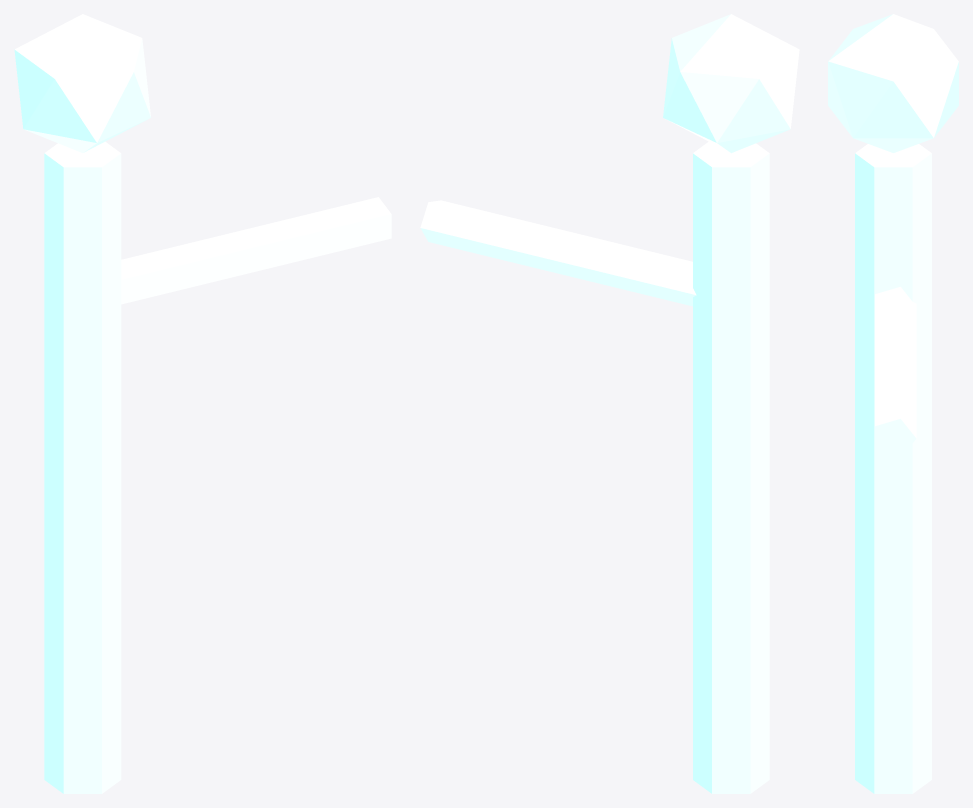
Rendered from a91_ancora_de_luz.glb.
The picture shows the model from 3 angles, left to right: view 1: azimuth 30°, elevation 25°; view 2: azimuth 150°, elevation 25°; view 3: azimuth 270°, elevation 25°; orthographic projection.
Visible parts, largest first — view 1: a91_ancora_de_luz; view 2: a91_ancora_de_luz; view 3: a91_ancora_de_luz.
Part boxes in pixels (x1=…): a91_ancora_de_luz: x1=14, y1=14, x2=391, y2=793; a91_ancora_de_luz: x1=420, y1=14, x2=799, y2=793; a91_ancora_de_luz: x1=828, y1=14, x2=958, y2=793.
Bounding box in the file's own units: 1.08 × 2.2 × 0.3403.
